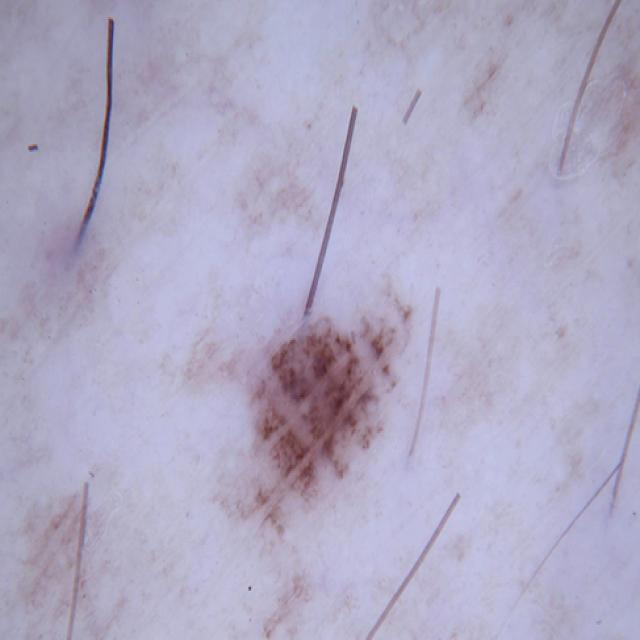Keratosis: (206, 299, 458, 569), (519, 68, 640, 243)
